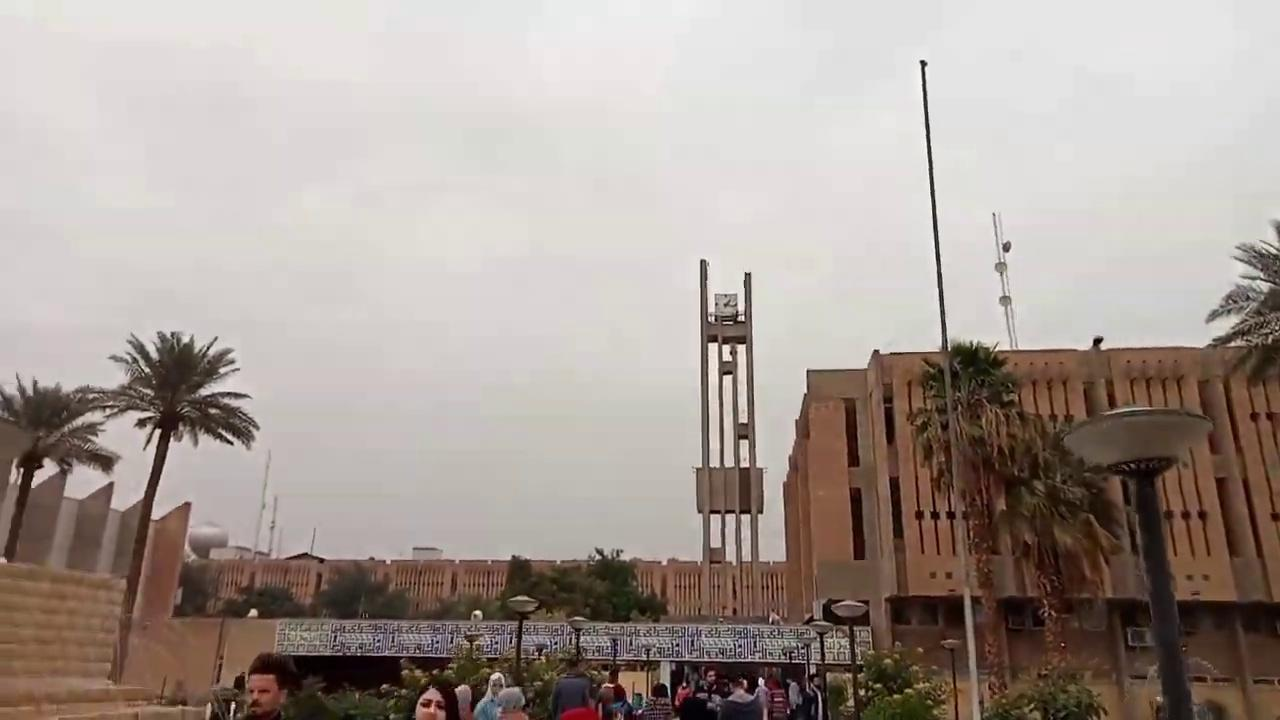person: (242, 651, 301, 719)
tree: (905, 337, 1130, 717), (80, 328, 259, 615), (982, 406, 1126, 686), (905, 338, 1024, 614), (1201, 215, 1279, 600), (0, 371, 119, 563), (493, 545, 668, 624), (1202, 215, 1279, 383), (826, 641, 952, 718), (981, 665, 1109, 718), (310, 560, 410, 619), (582, 546, 645, 623), (215, 582, 307, 618)
